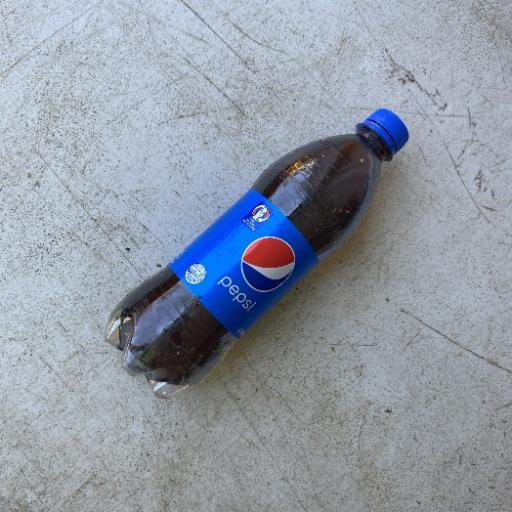Plastic: (102, 104, 411, 400)
